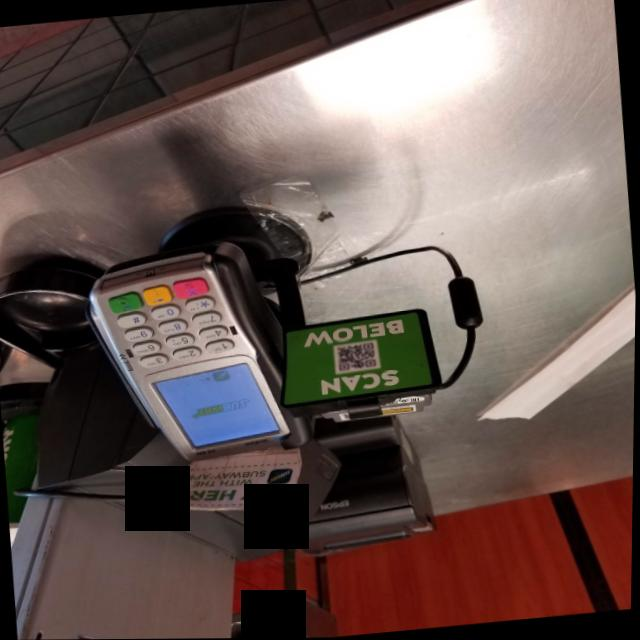QR_CODE: (328, 336, 388, 378)
